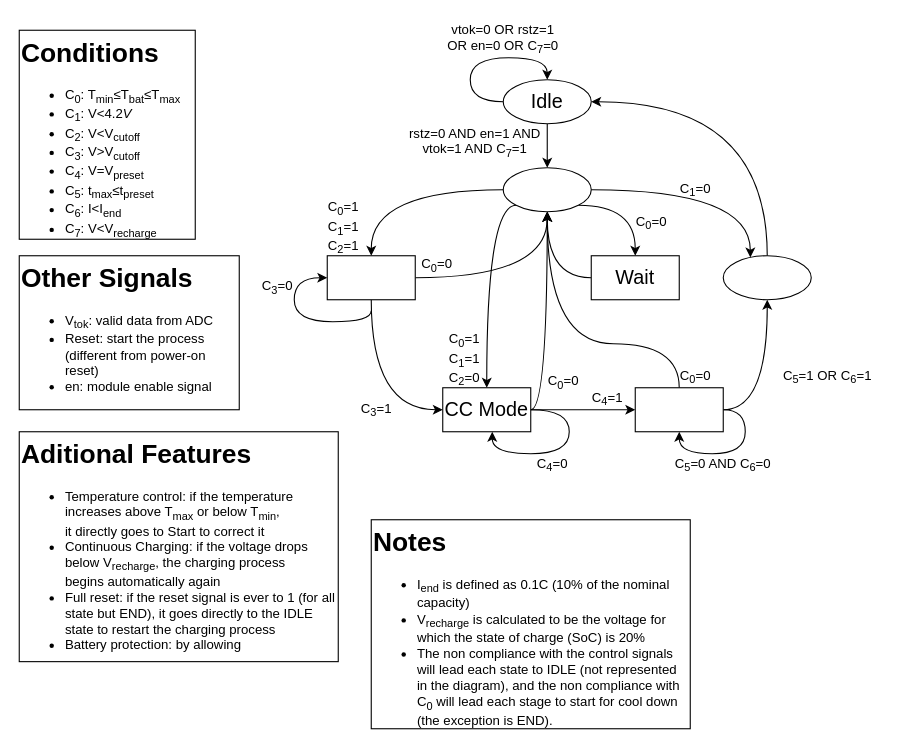
Image size: 897x750. Some labels were removed from this diagram. Here are the shapes that lost their labels. From the top down, the centre of each, then its label:
At (x=546, y=189): "Start".
At (x=370, y=277): "TC Mode".
At (x=766, y=277): "End".
At (x=678, y=409): "CV Mode".
